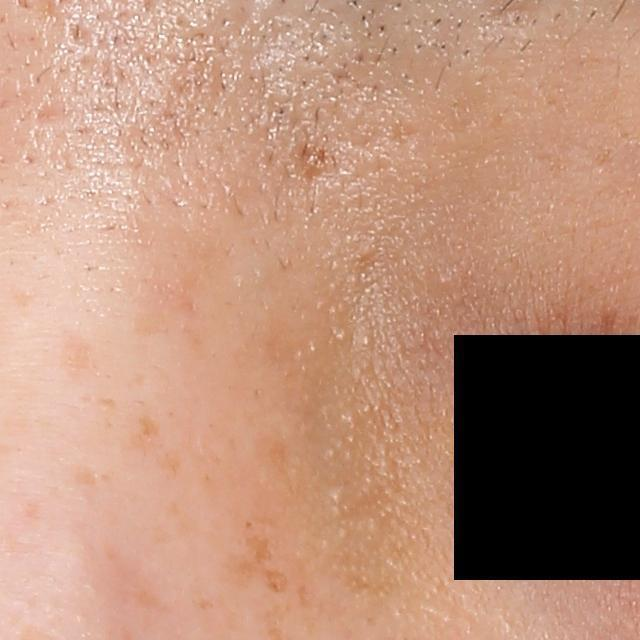comedo: (436, 273, 453, 290)
melasma: (247, 425, 299, 483), (295, 132, 338, 183), (240, 535, 277, 571), (259, 565, 292, 598), (159, 447, 190, 479), (133, 415, 159, 450), (295, 581, 316, 614)
